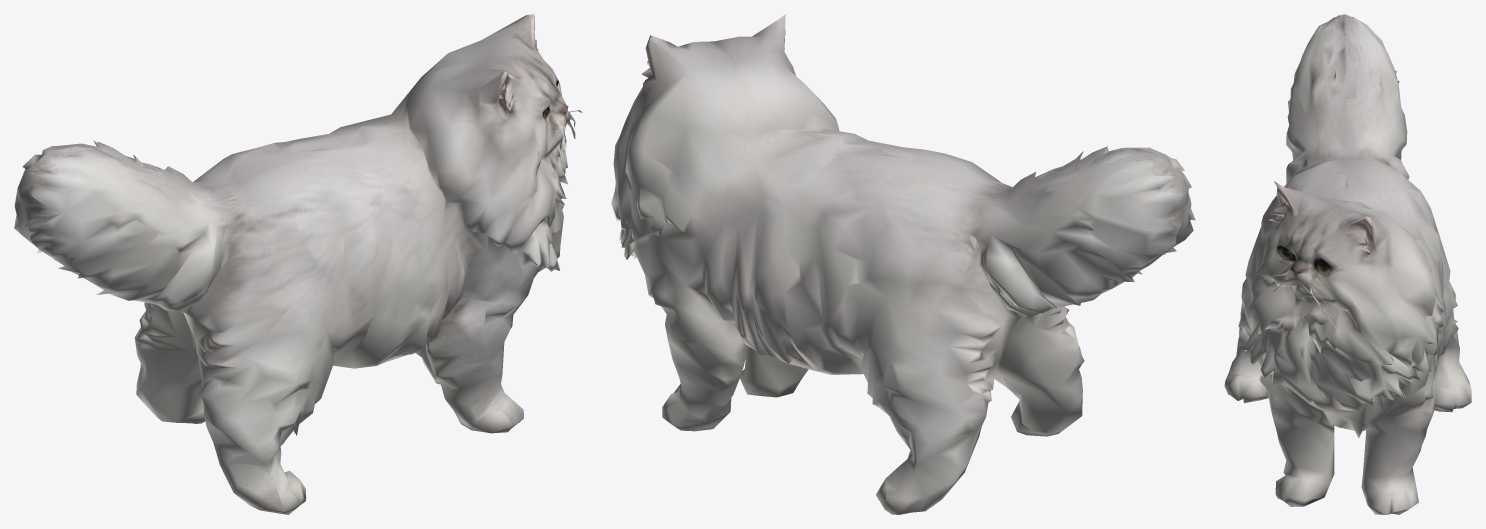
File: SNOWBELCAT-lo.glb
3 renders of one model, left to right at view 1: azimuth 30°, elevation 25°; view 2: azimuth 150°, elevation 25°; view 3: azimuth 270°, elevation 25°, orthographic. The views are drawn at different scales.
Parts seen in each view (by area): view 1: tripo_node_b4e6347b-b5c6-4c41-b260-4b6d64957a70; view 2: tripo_node_b4e6347b-b5c6-4c41-b260-4b6d64957a70; view 3: tripo_node_b4e6347b-b5c6-4c41-b260-4b6d64957a70.
Part boxes in pixels (x1,y1,x2,y2): tripo_node_b4e6347b-b5c6-4c41-b260-4b6d64957a70: [14, 14, 582, 514]; tripo_node_b4e6347b-b5c6-4c41-b260-4b6d64957a70: [611, 14, 1195, 514]; tripo_node_b4e6347b-b5c6-4c41-b260-4b6d64957a70: [1224, 14, 1471, 514].
Bounding box in the file's own units: 1.56 × 0.9887 × 0.6968.
Materials: 1 (1 with a texture image).
